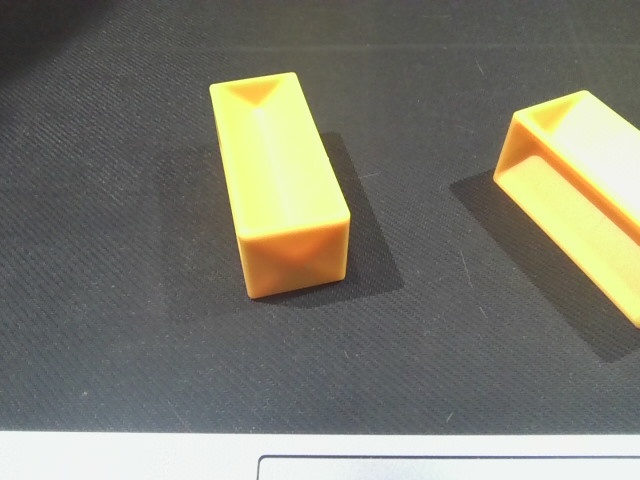YellowSample: (489, 89, 640, 336), (203, 70, 357, 304)
